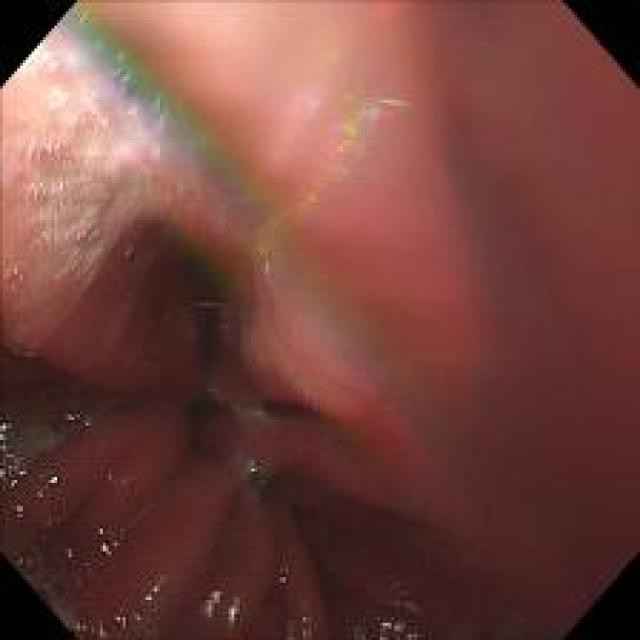blur: (335, 2, 629, 575)
bubbles: (28, 208, 114, 298), (4, 262, 30, 301), (198, 374, 221, 401)
color misalignment: (50, 2, 280, 252), (289, 74, 402, 228), (62, 569, 178, 636), (0, 406, 58, 536), (358, 586, 430, 638), (194, 575, 249, 628), (81, 512, 132, 561), (8, 549, 55, 576), (61, 395, 96, 431), (276, 610, 319, 639), (102, 465, 136, 490), (272, 556, 292, 586)
contrast: (16, 229, 254, 526)
specularity: (246, 459, 261, 486)
